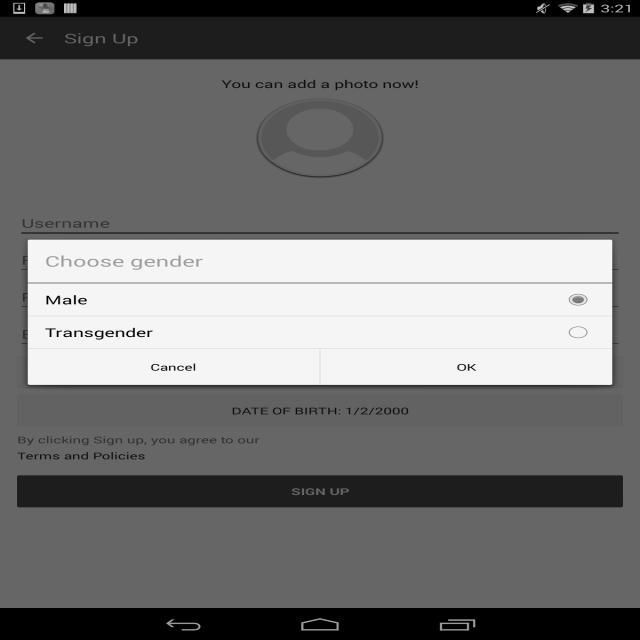Button: (9, 473, 622, 507)
RadioButton: (545, 315, 605, 342), (545, 288, 598, 312)
TextView: (48, 248, 222, 272), (31, 323, 186, 344), (33, 291, 128, 311)
